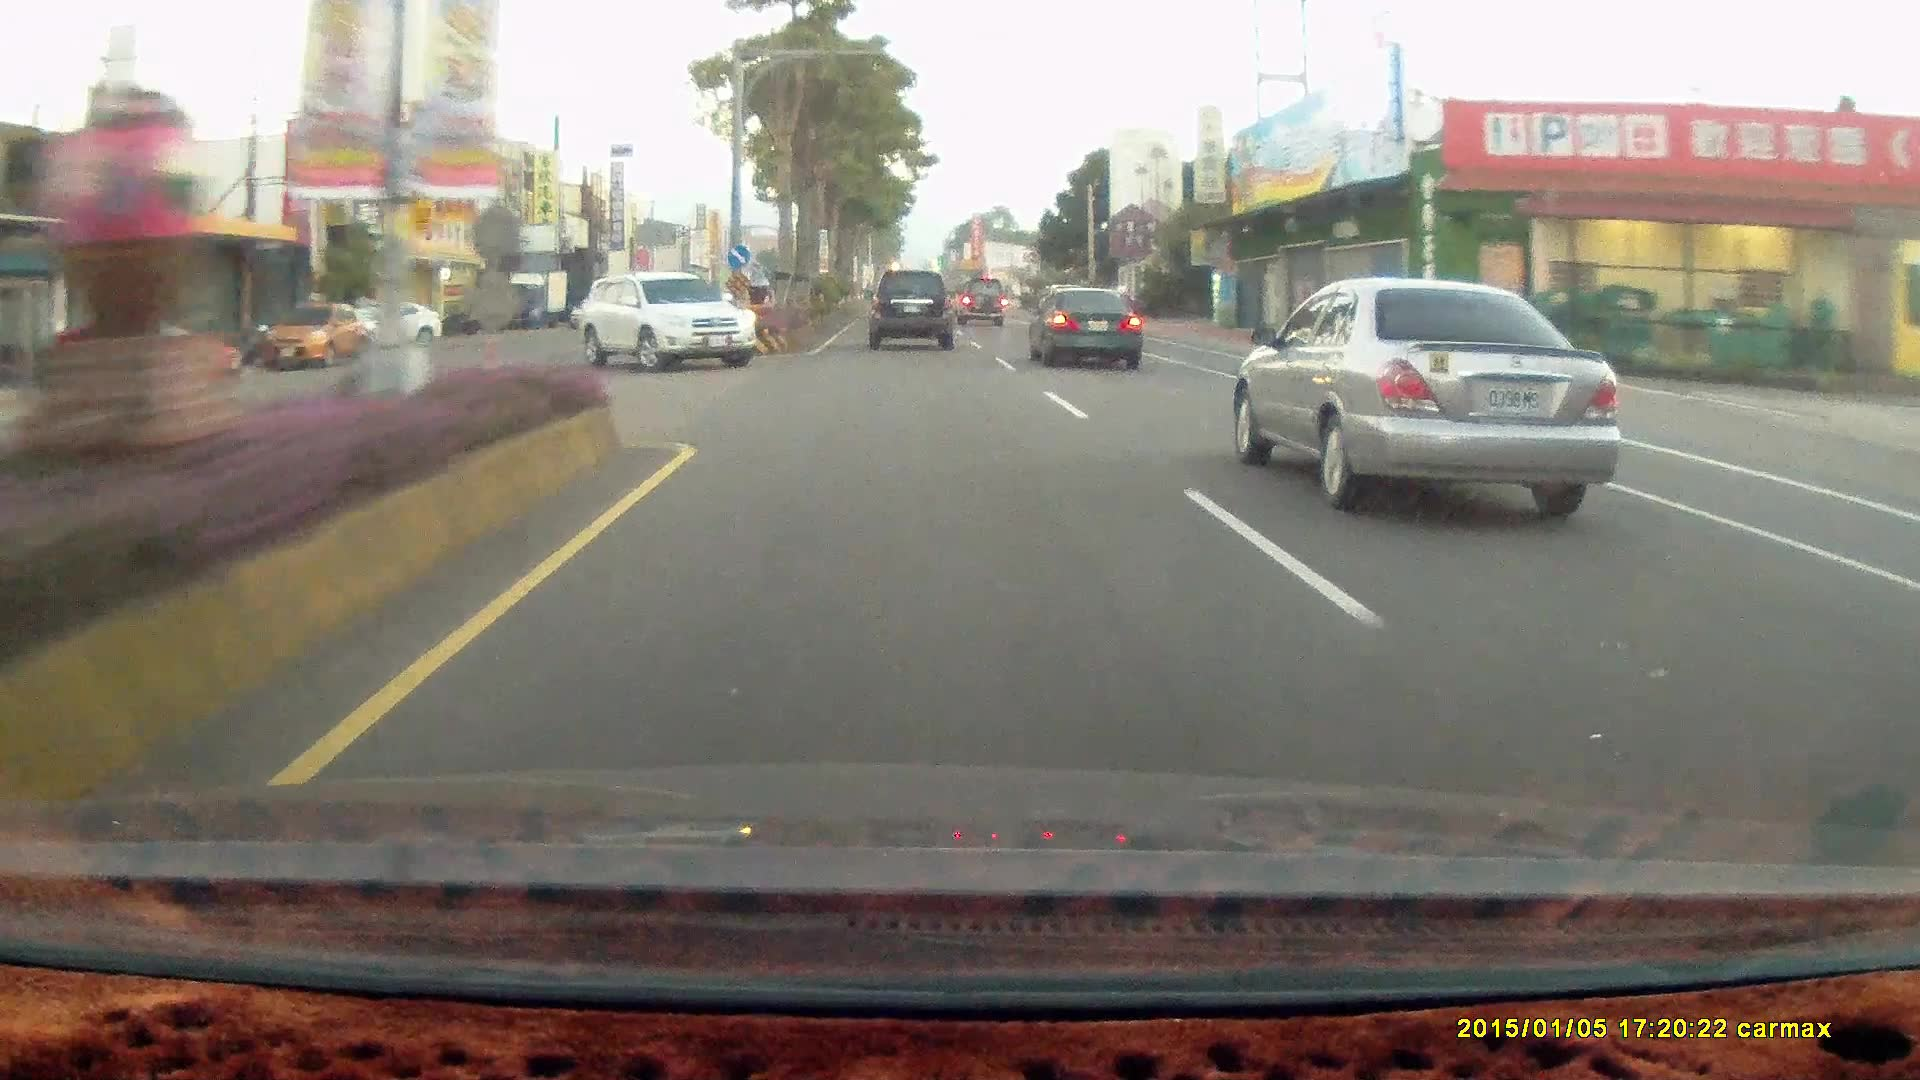vehicle: (1225, 276, 1623, 525), (574, 272, 760, 375), (574, 268, 758, 371), (33, 311, 233, 396), (49, 309, 240, 380), (1029, 286, 1145, 375), (1027, 284, 1142, 371), (865, 270, 961, 355), (260, 302, 369, 369), (866, 272, 952, 349), (336, 298, 440, 348), (955, 280, 1007, 328), (955, 278, 1007, 327)
